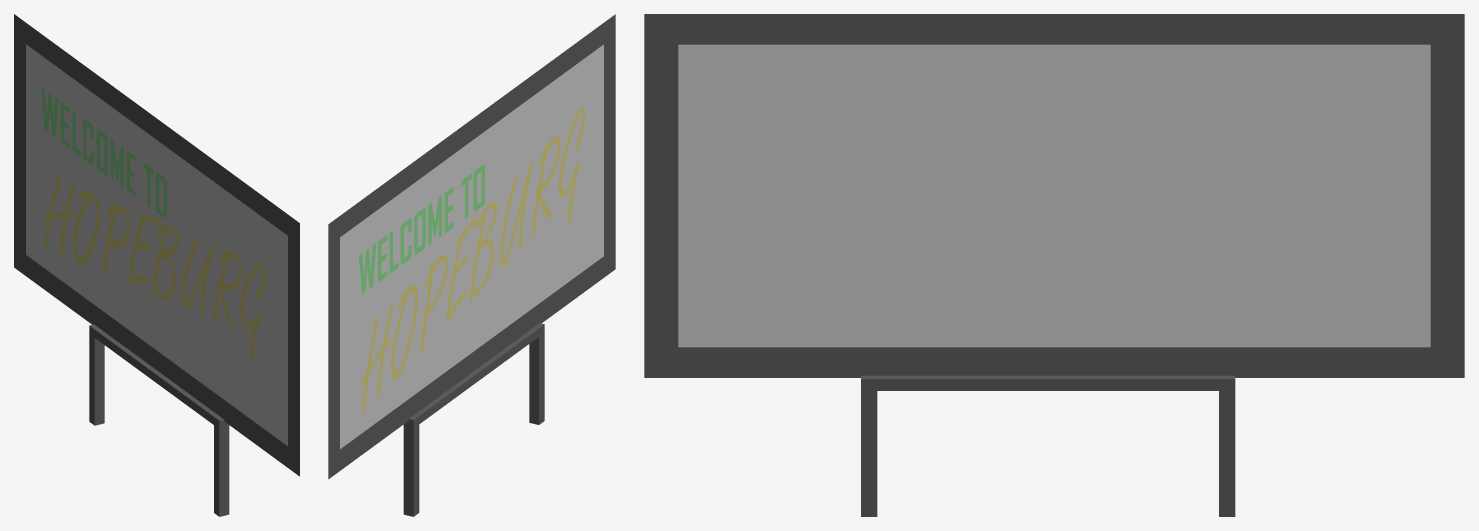
Rendered from hopeburg.glb.
3 renders of one model, left to right at view 1: azimuth 30°, elevation 25°; view 2: azimuth 150°, elevation 25°; view 3: azimuth 270°, elevation 25°, orthographic. The views are drawn at different scales.
Visible parts, largest first — view 1: Cube, Text, Text.001; view 2: Cube, Text, Text.001; view 3: Cube.
Part boxes in pixels (box(x1,y1,x2,y2)): Cube: box(14, 14, 299, 516); Text: box(44, 173, 266, 360); Text.001: box(41, 87, 166, 218); Cube: box(328, 14, 615, 516); Text: box(361, 107, 585, 412); Text.001: box(359, 164, 484, 293); Cube: box(644, 14, 1464, 516).
Size of the model in its own units: 2 by 68.23 by 102.
